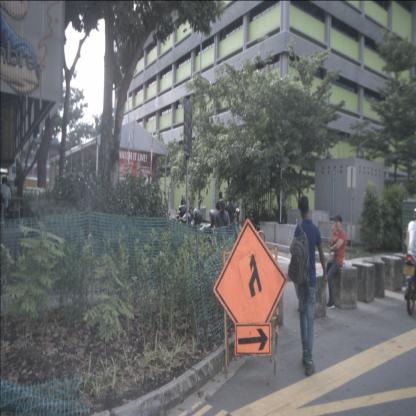human-pedestrian-adult: (287, 195, 328, 376), (324, 214, 346, 310), (215, 199, 230, 264), (224, 195, 237, 248), (215, 191, 226, 245), (181, 195, 184, 214), (183, 198, 186, 214)
vehicle-bicycle: (241, 222, 265, 251)
vehicle-motorcycle: (178, 208, 217, 252), (403, 207, 416, 314)
